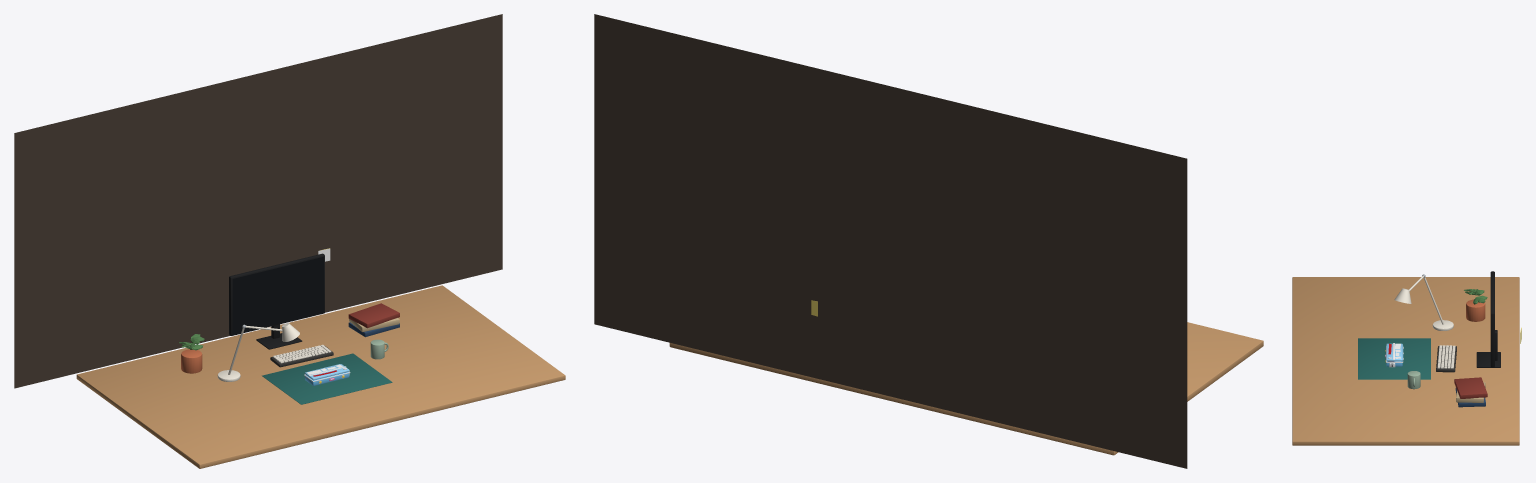
File: desk.glb
3 views of the same model, side by side, from view 1: azimuth 30°, elevation 25°; view 2: azimuth 150°, elevation 25°; view 3: azimuth 270°, elevation 25° (orthographic). The views are drawn at different scales.
Visible parts, largest first — view 1: Wall, DeskTop, MonitorScreen, CuttingMat, MonitorBody, Book2; view 2: Wall, DeskTop; view 3: DeskTop, CuttingMat, Book2, MonitorBody, Pot, MonitorFoot, KeyboardCase.
Boxes of the visible parts, <box> form: Wall: <box>14,14,502,388</box>; DeskTop: <box>76,285,565,468</box>; MonitorScreen: <box>232,256,323,334</box>; CuttingMat: <box>262,353,392,404</box>; MonitorBody: <box>229,253,324,335</box>; Book2: <box>348,303,399,328</box>; Wall: <box>594,14,1187,468</box>; DeskTop: <box>669,322,1263,455</box>; DeskTop: <box>1292,277,1519,445</box>; CuttingMat: <box>1358,338,1430,379</box>; Book2: <box>1454,377,1487,398</box>; MonitorBody: <box>1490,271,1494,367</box>; Pot: <box>1466,299,1485,321</box>; MonitorFoot: <box>1476,352,1500,367</box>; KeyboardCase: <box>1436,346,1456,372</box>.
Bounding box in the file's own units: 3.2 × 1.63 × 1.41.
